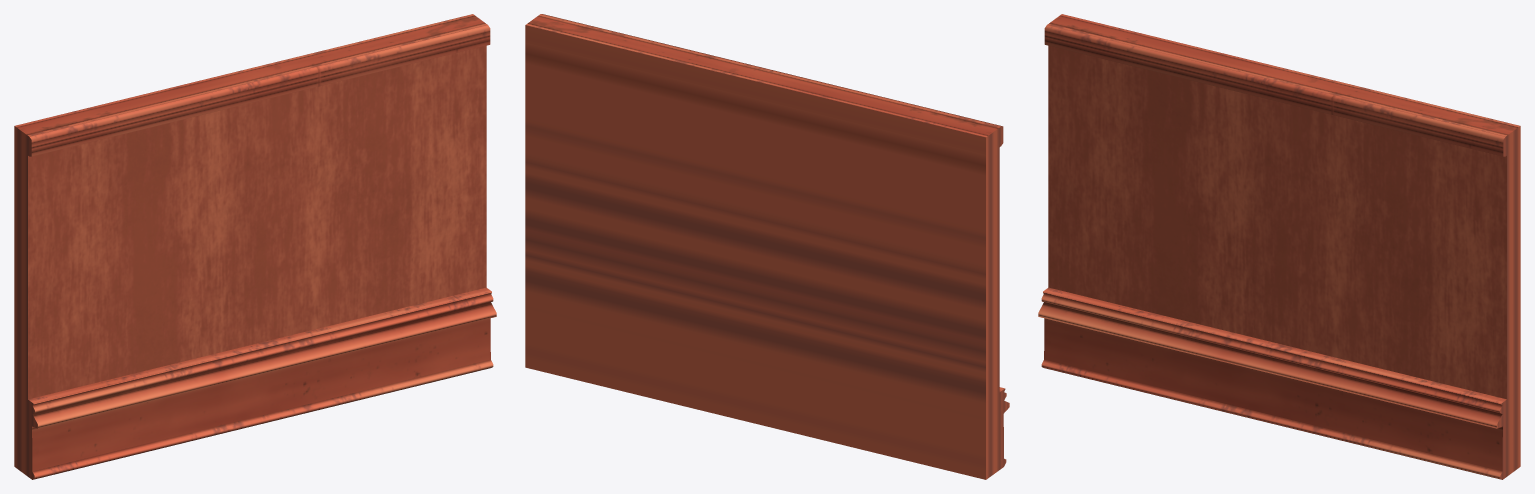
The model's file is MSH_LowWall_03.FBX.
3 views of the same model, side by side, from view 1: azimuth 30°, elevation 25°; view 2: azimuth 150°, elevation 25°; view 3: azimuth 330°, elevation 25° (orthographic).
Parts seen in each view (by area): view 1: MSH_LowWall_03; view 2: MSH_LowWall_03; view 3: MSH_LowWall_03.
Part boxes in pixels (x1=…): MSH_LowWall_03: x1=14, y1=14, x2=496, y2=479; MSH_LowWall_03: x1=525, y1=14, x2=1009, y2=479; MSH_LowWall_03: x1=1038, y1=14, x2=1520, y2=479.
Size of what is drawn, in the model's own units: 180 by 15.96 by 128.
